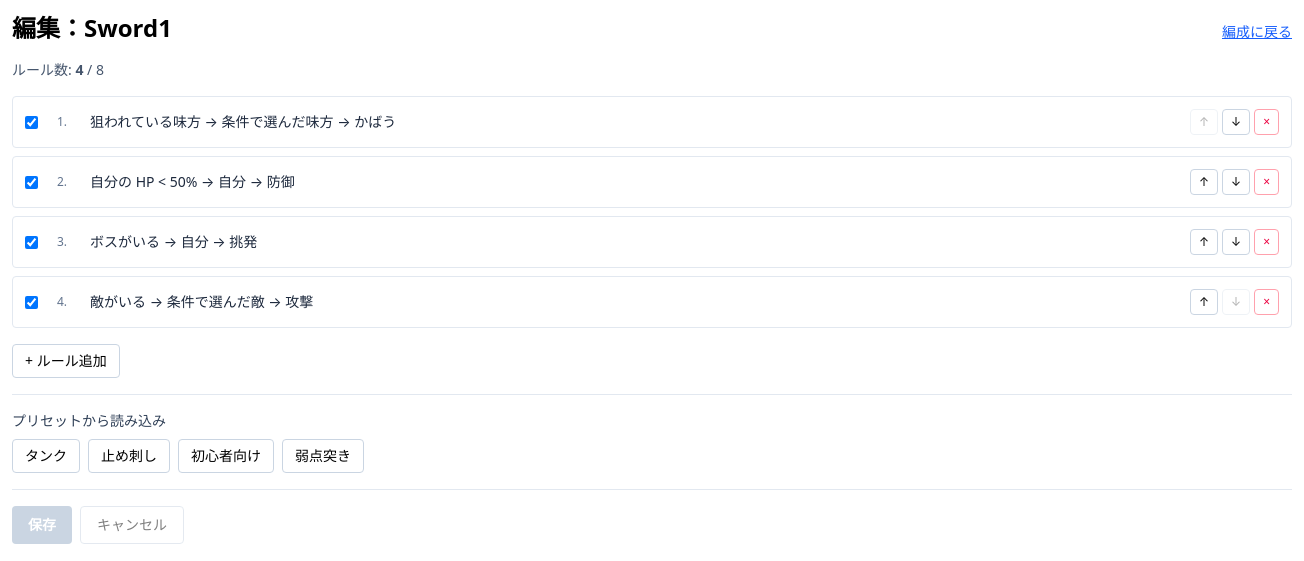
Test: GambitEditorScreen のルール操作（下書きモード） › 削除：confirm=true なら 1 件減る
Expected: the number of list items is 4, 12,96 -> 1292,148; 12,156 -> 1292,208; 12,216 -> 1292,268; 12,276 -> 1292,328
Step 1. Click the button named "削除" → (1267, 122), box 1254,109 -> 1279,135
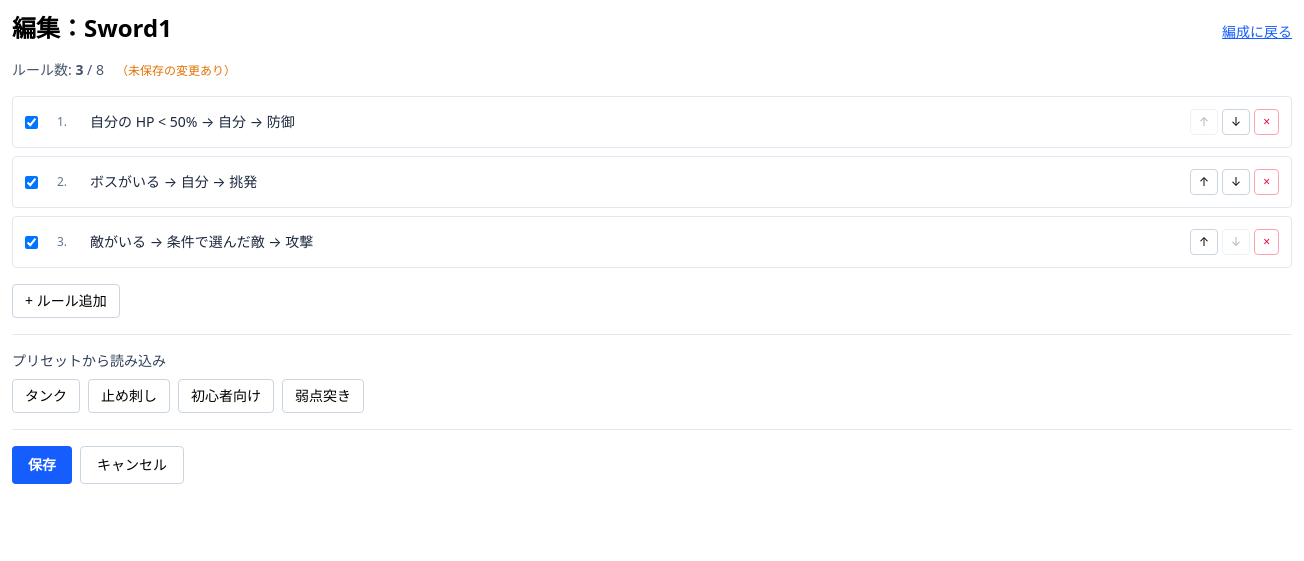
Expected: the list item "1. 自分の HP < 50% → 自分 → 防御 ↑ ↓ ×" is shown, 12,96 -> 1292,148
Result: the number of list items is 3 at 12,96 -> 1292,148; 12,156 -> 1292,208; 12,216 -> 1292,268
